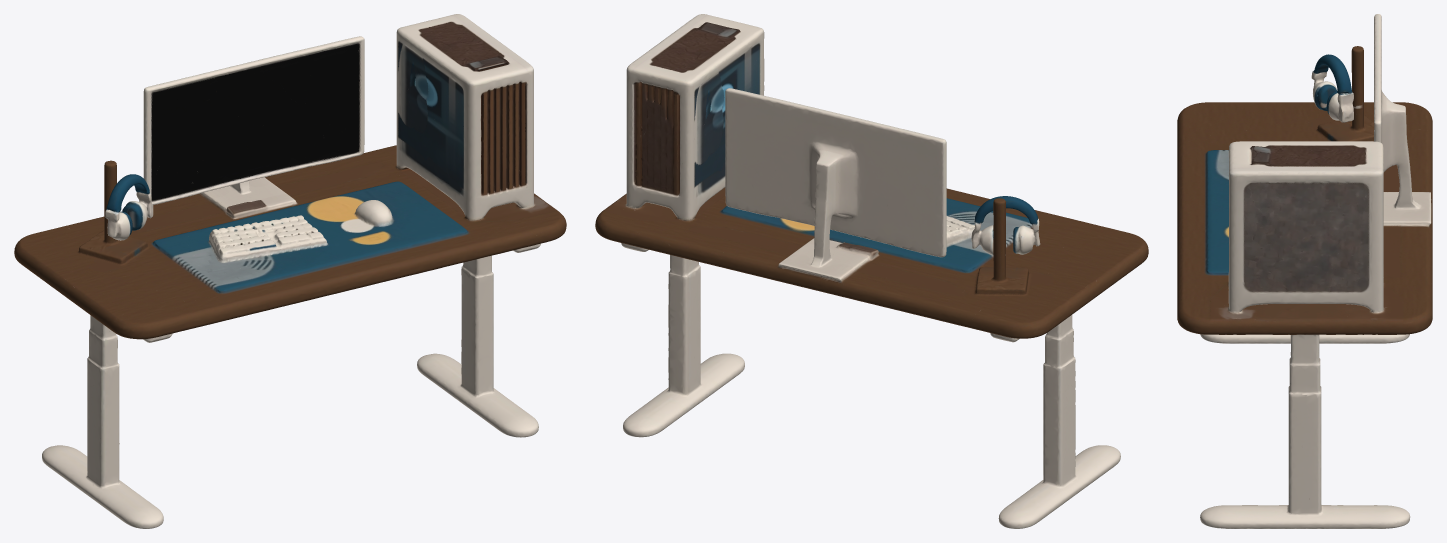
3 views of the same model, side by side, from view 1: azimuth 30°, elevation 25°; view 2: azimuth 150°, elevation 25°; view 3: azimuth 270°, elevation 25° (orthographic).
Size of the model in its own units: 1.9 by 1.45 by 0.9258.
1 material, 1 textured.
